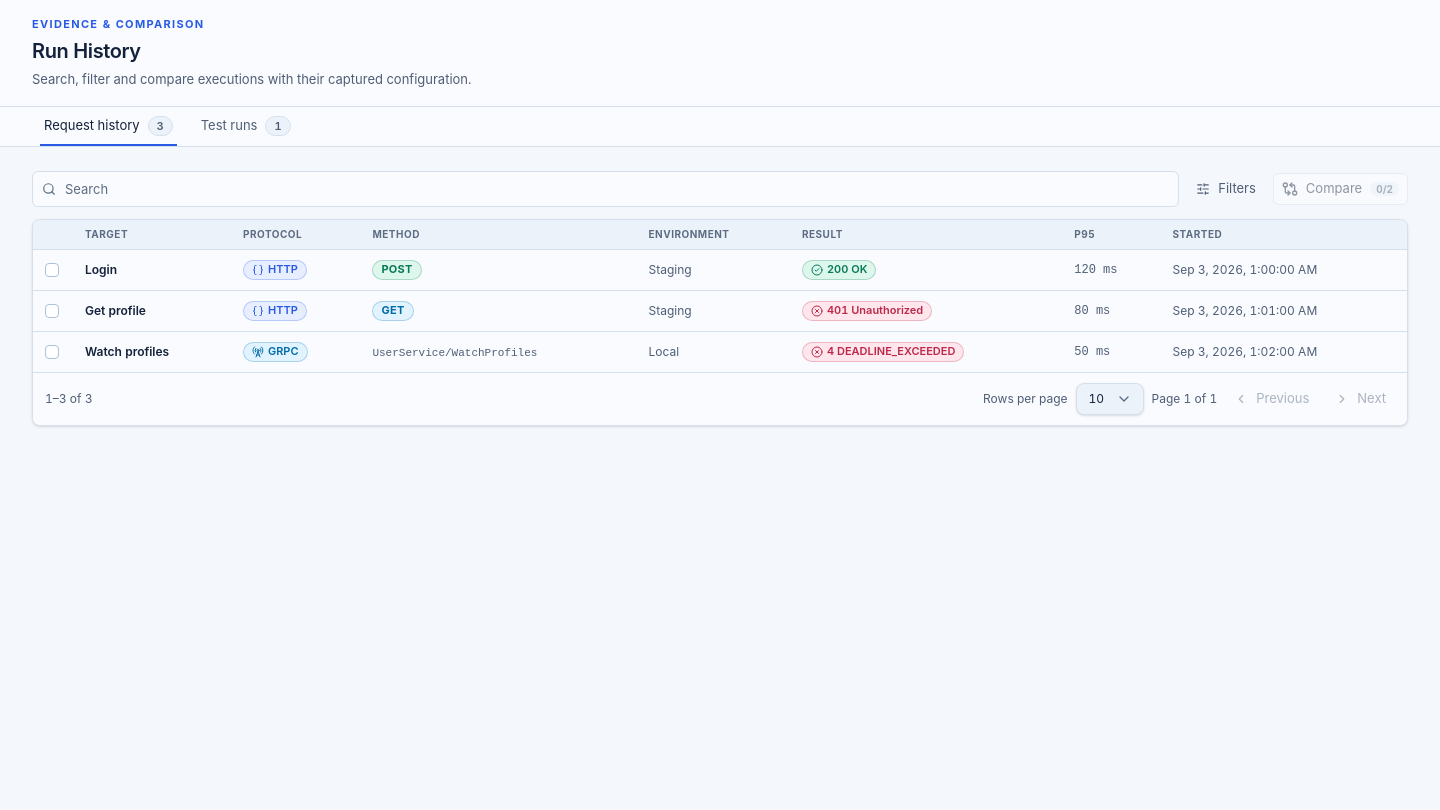
Test: execution history › keeps test-run configuration, checks, and immutable evidence together
Click the tab "Test runs 1" at {"x": 246, "y": 126}, box top-left (189, 107), bottom-right (302, 146)
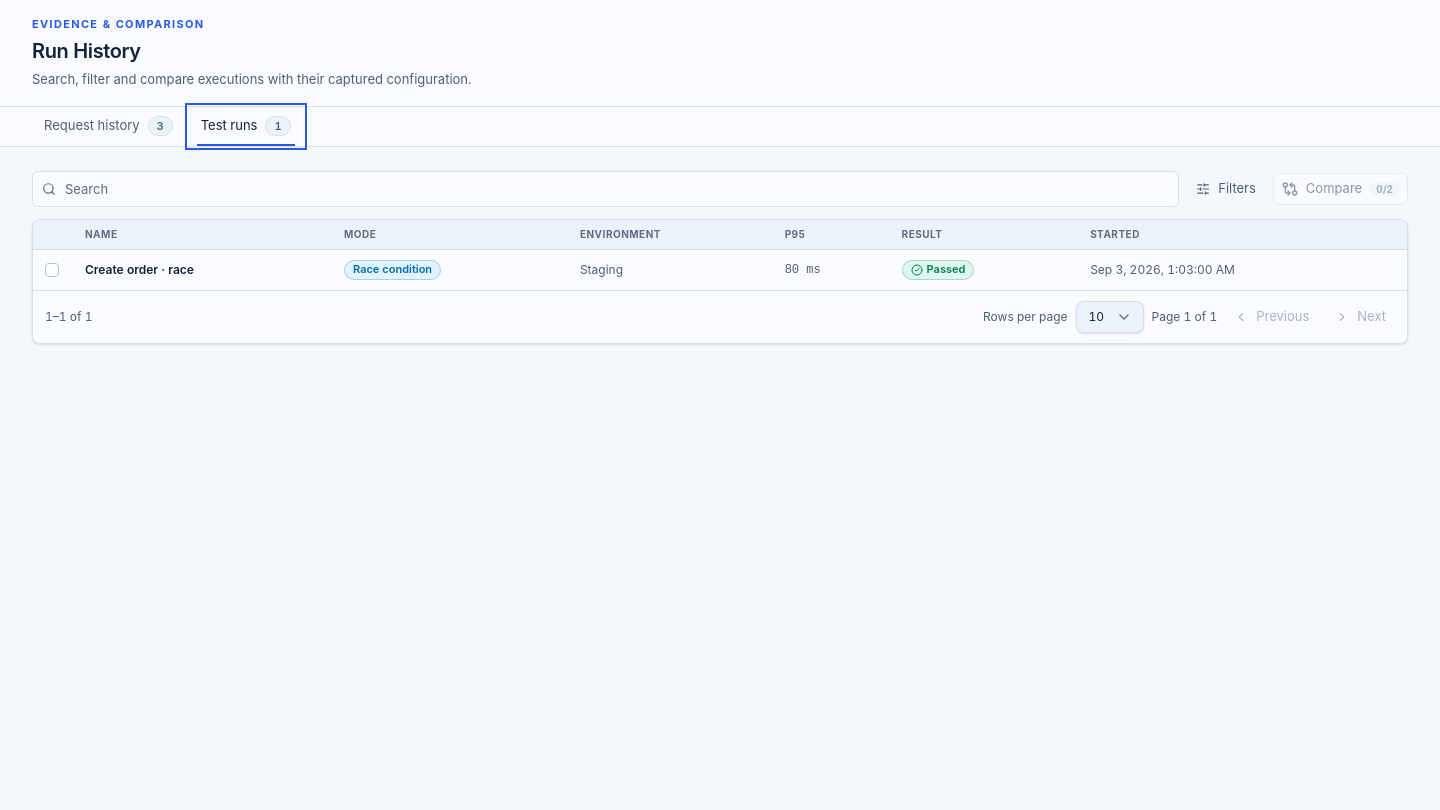
Click the text "Create order · race" at {"x": 139, "y": 269}, box top-left (73, 250), bottom-right (332, 290)
(page scrolled)
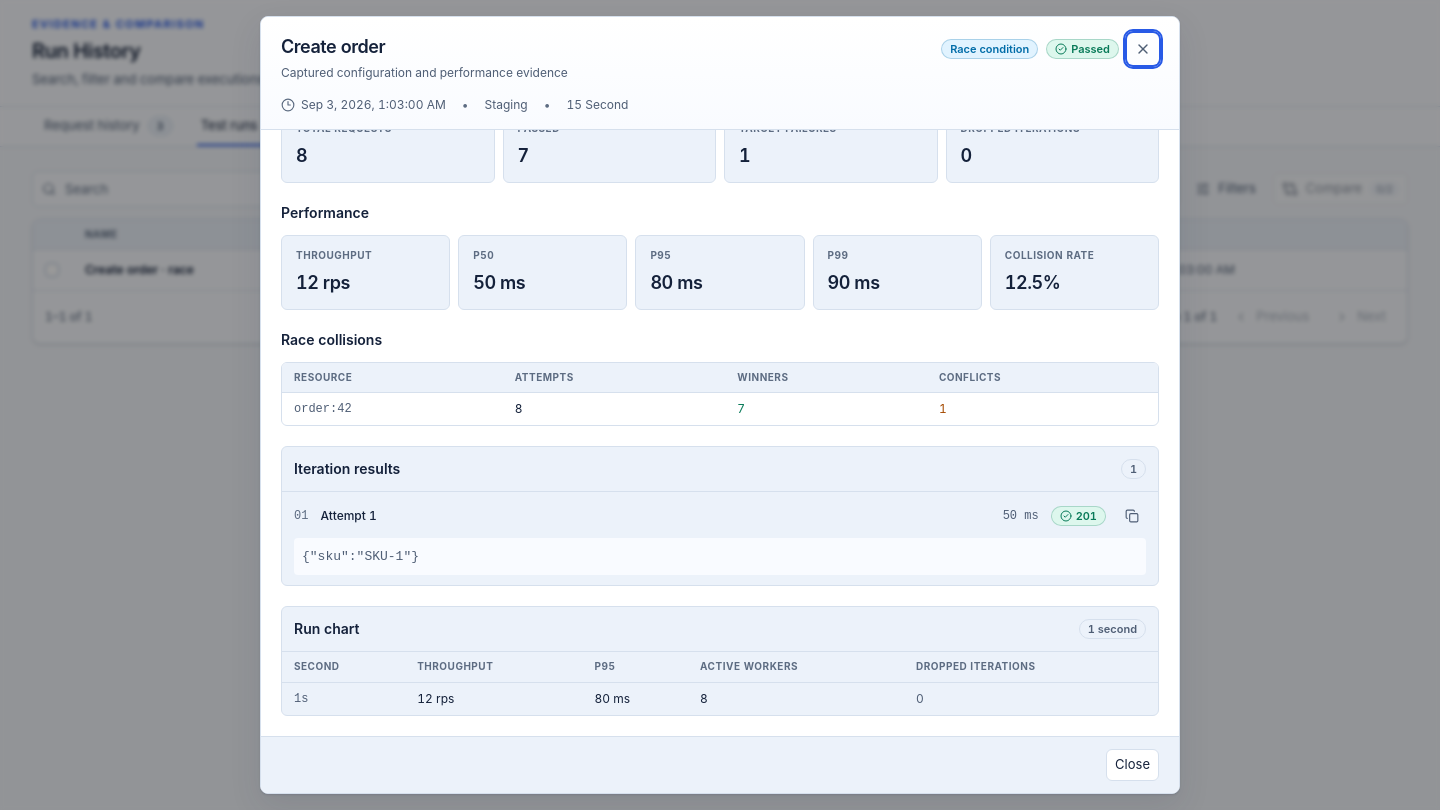
Expected: the text "Captured configuration and performance evidence" is shown, top-left (281, 65), bottom-right (568, 81)
Expected: the heading "Performance" is shown, top-left (281, 204), bottom-right (369, 221)
Expected: the heading "Race collisions" is shown, top-left (281, 331), bottom-right (382, 348)
